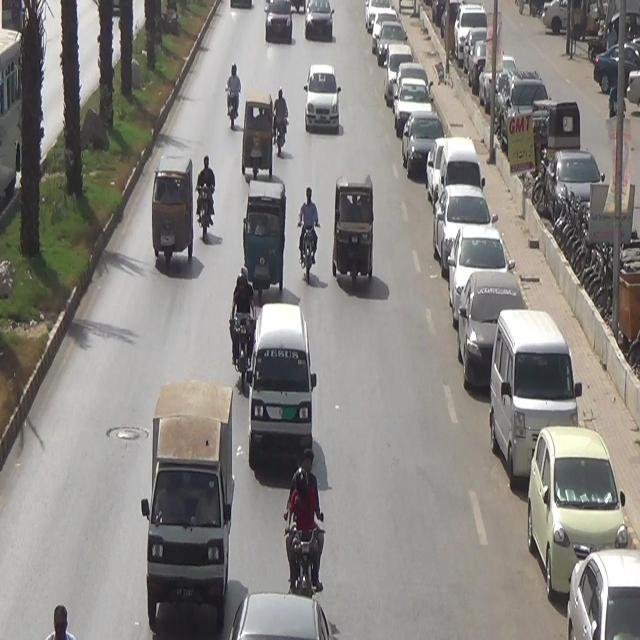car: (253, 302, 314, 463), (301, 57, 344, 141), (267, 2, 295, 50), (304, 0, 335, 43)
motorbike: (226, 271, 259, 366), (193, 146, 218, 246), (223, 55, 248, 139), (299, 179, 317, 286), (274, 80, 293, 170)
truck: (149, 387, 229, 640)
